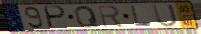9: (25, 6, 45, 29)
L: (130, 5, 153, 27)
P: (44, 5, 68, 29)
Q: (74, 5, 101, 29)
R: (96, 4, 125, 28)
U: (151, 4, 179, 28)
